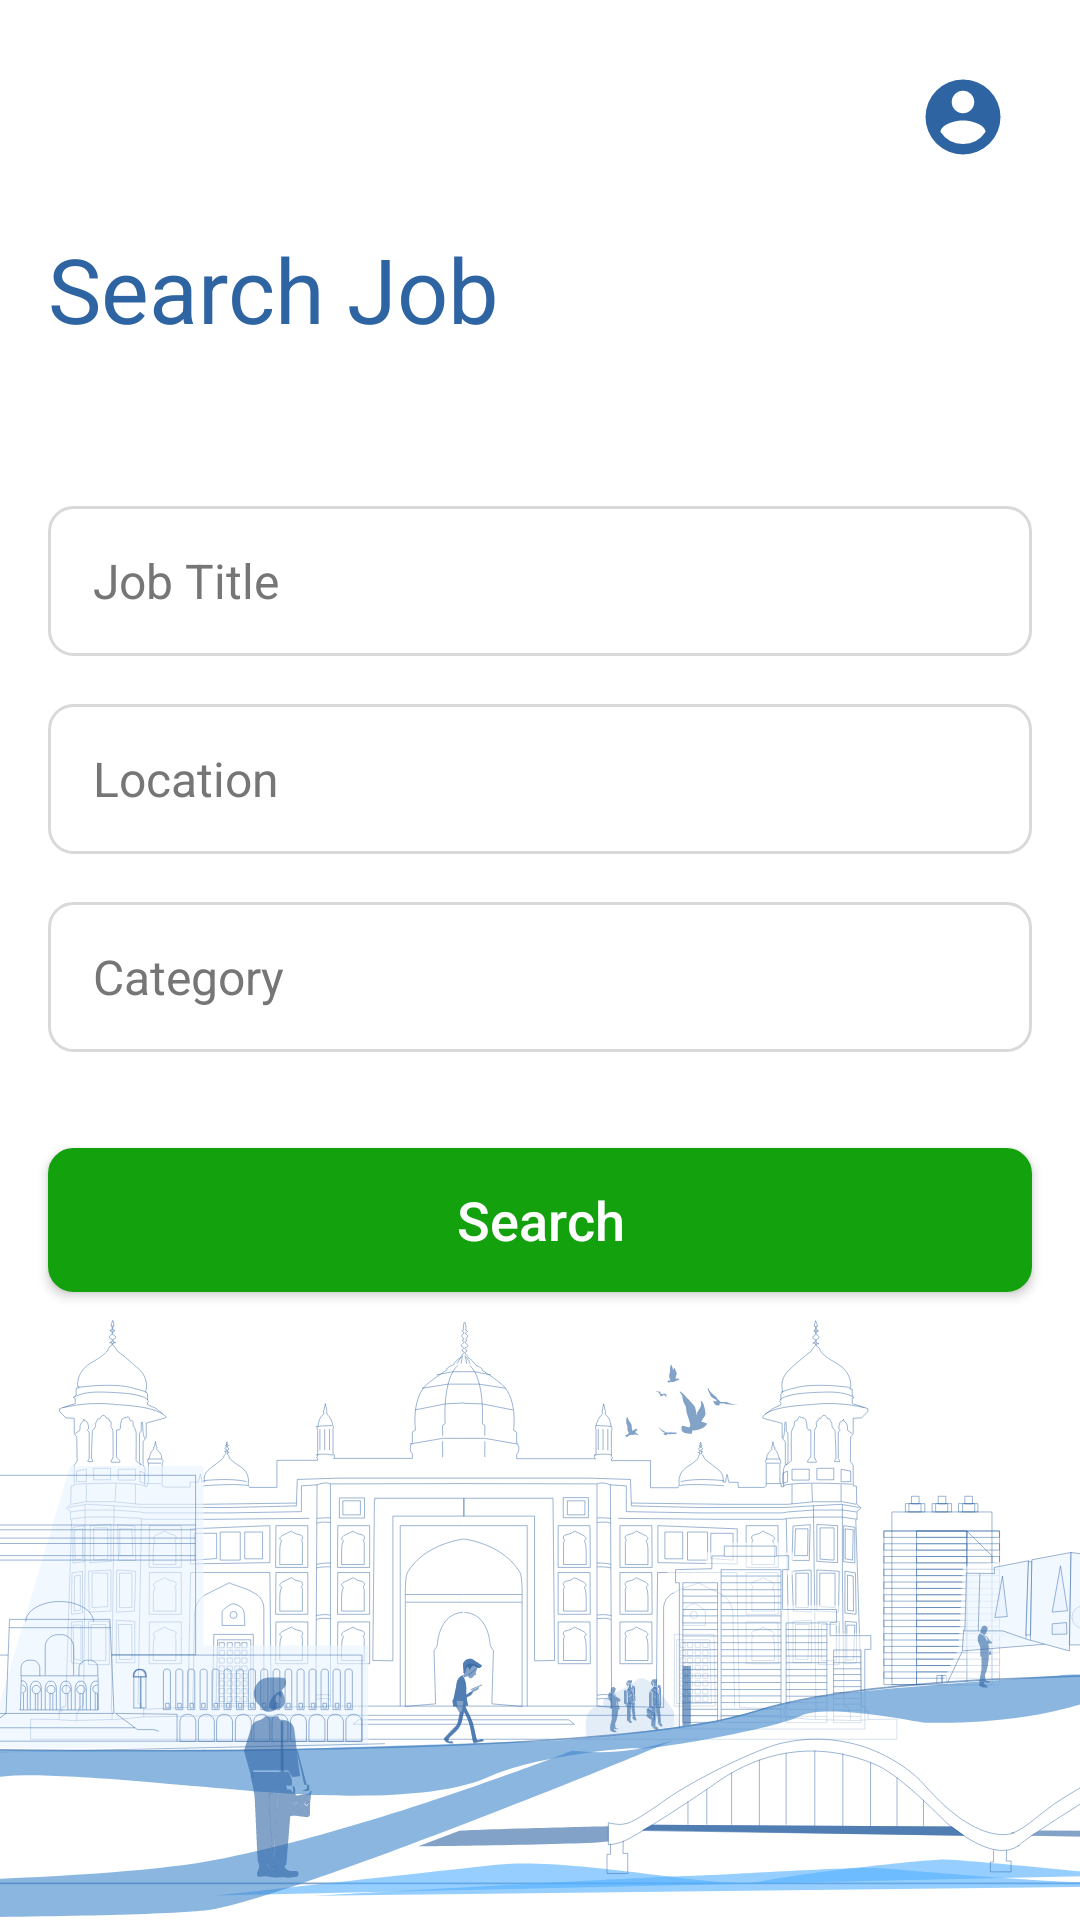

Named icons in this screenshot (1080×1920) and their bounding boxes, (x1=x1, y1=y1, x2=x2, y2=y2):
account circle: (x1=925, y1=79, x2=1001, y2=155)
